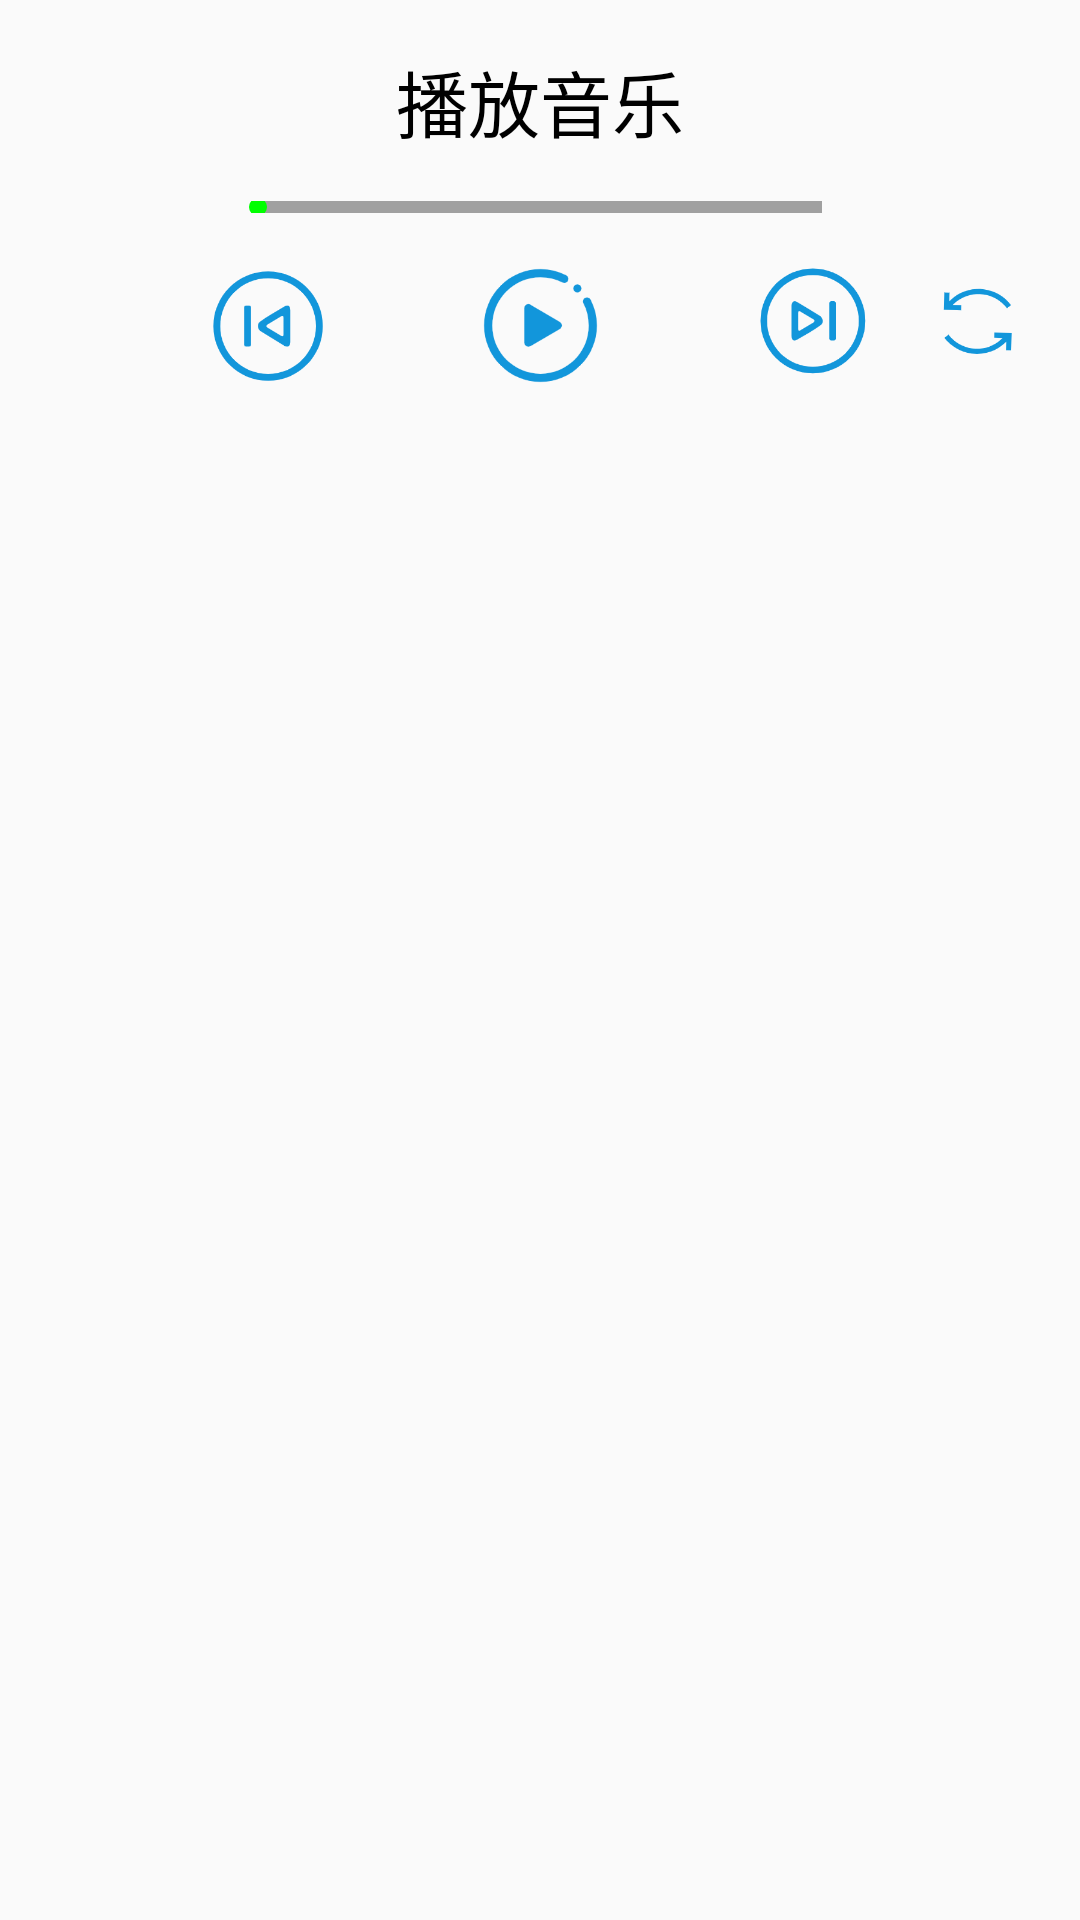

Where icons sit on this 1080*1920 app screen, as bbox(x1, y1, x2, y2):
next: bbox(760, 268, 866, 374)
play mode sequential: bbox(943, 288, 1012, 354)
previous: bbox(213, 271, 323, 381)
